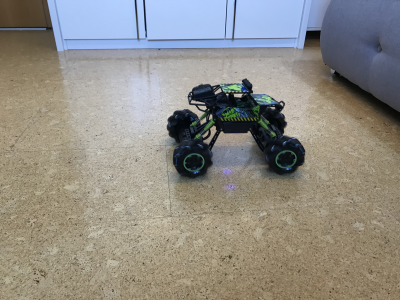remote control car: (163, 75, 315, 179)
